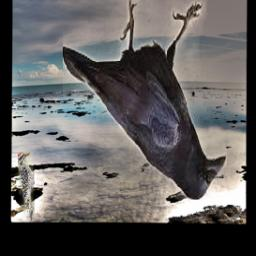Crow: (62, 0, 226, 201)
Woodpecker: (18, 152, 35, 223)
